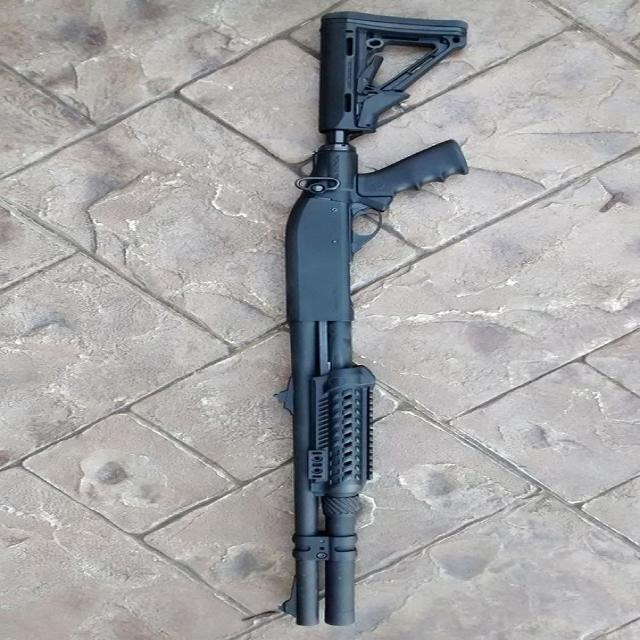shotgun: (270, 0, 496, 640)
